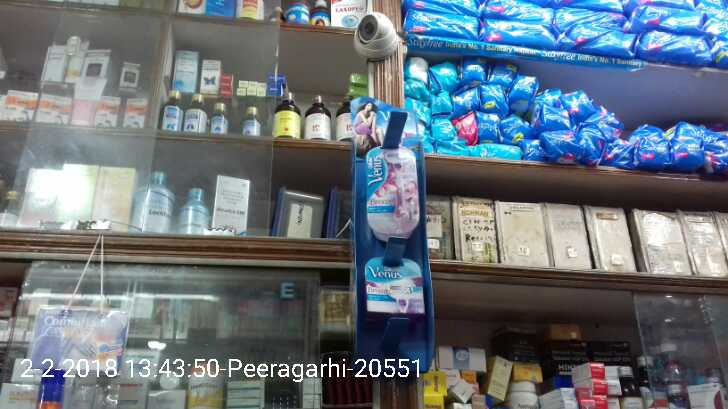venus: (365, 144, 424, 237), (366, 252, 427, 315)
